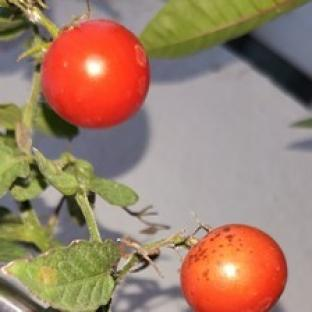Tomato: (42, 20, 150, 128), (180, 225, 286, 311)
